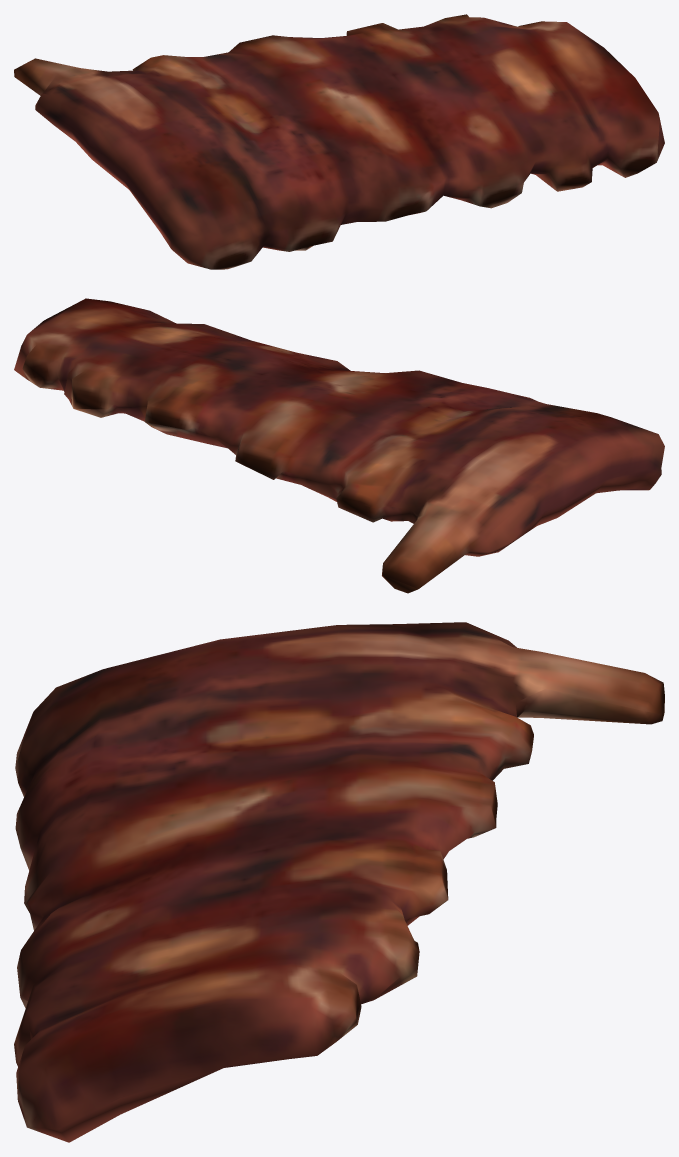
Rendered from RibsBig.obj.
The picture shows the model from 3 angles, top to bottom: view 1: azimuth 30°, elevation 25°; view 2: azimuth 150°, elevation 25°; view 3: azimuth 270°, elevation 25°; orthographic projection. The views are drawn at different scales.
Parts seen in each view (by area): view 1: 3(Clone)_Quality_40; view 2: 3(Clone)_Quality_40; view 3: 3(Clone)_Quality_40.
Boxes of the visible parts, x1,y1,x2,y2 form: 3(Clone)_Quality_40: [14, 14, 664, 269]; 3(Clone)_Quality_40: [14, 298, 664, 593]; 3(Clone)_Quality_40: [14, 622, 664, 1142].
Size of the model in its own units: 3.17 by 0.6302 by 2.25.
